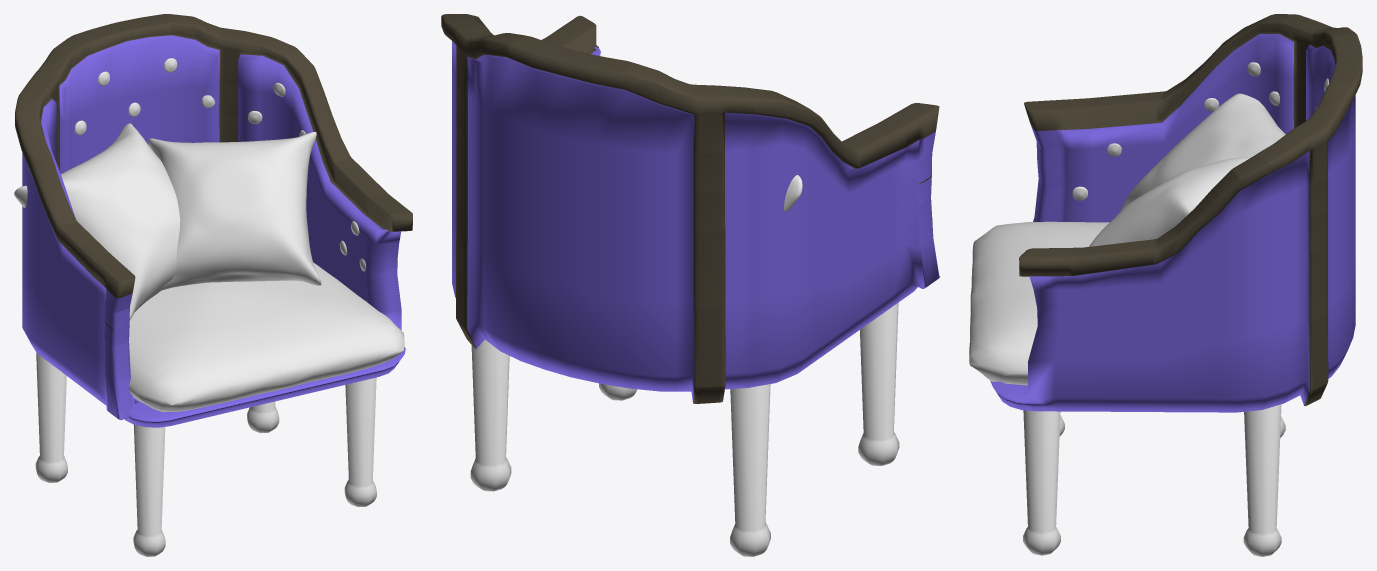
File: sessel.fbx
3 views of the same model, side by side, from view 1: azimuth 30°, elevation 25°; view 2: azimuth 150°, elevation 25°; view 3: azimuth 270°, elevation 25° (orthographic). The views are drawn at different scales.
Visible parts, largest first — view 1: Cube.824, Cube.823, Plane.026, Plane.027, Cube.826, Cube.825, Cube.821, Cube.822; view 2: Cube.824, Cube.821, Cube.826, Cube.822; view 3: Cube.824, Cube.823, Plane.027, Plane.026, Cube.822, Cube.825.
Boxes of the visible parts, x1,y1,x2,y2 form: Cube.824: (15, 14, 412, 427); Cube.823: (128, 262, 404, 411); Plane.026: (148, 132, 321, 290); Plane.027: (14, 123, 180, 320); Cube.826: (133, 425, 165, 556); Cube.825: (344, 377, 376, 507); Cube.821: (35, 353, 67, 482); Cube.822: (247, 401, 279, 433); Cube.824: (441, 14, 940, 403); Cube.821: (730, 384, 770, 556); Cube.826: (858, 302, 899, 465); Cube.822: (470, 339, 511, 491); Cube.824: (990, 14, 1362, 412); Cube.823: (969, 221, 1109, 385); Plane.027: (1120, 93, 1285, 211); Plane.026: (1089, 157, 1251, 246); Cube.822: (1243, 404, 1281, 556); Cube.825: (1023, 410, 1060, 555).
Size of the model in its own units: 176 by 185 by 228.
